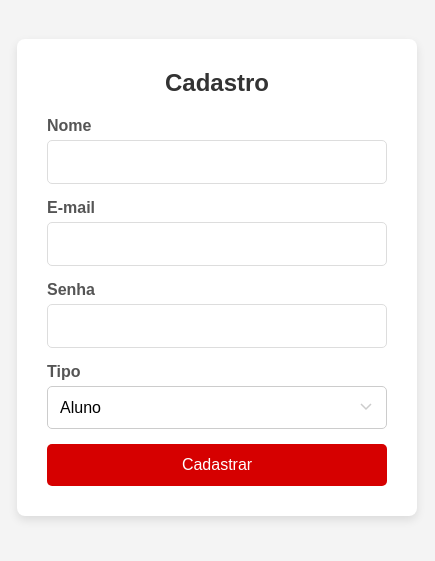
Test case: Cadastro — erros do Firebase traduzidos (AC-AUTH-05) › nunca mostra o código nem a mensagem crua do Firebase
This screenshot has width=435, height=561.
Type "Ana Souza" into the field labelled "Nome" at (217, 162), box [47,140,387,184]
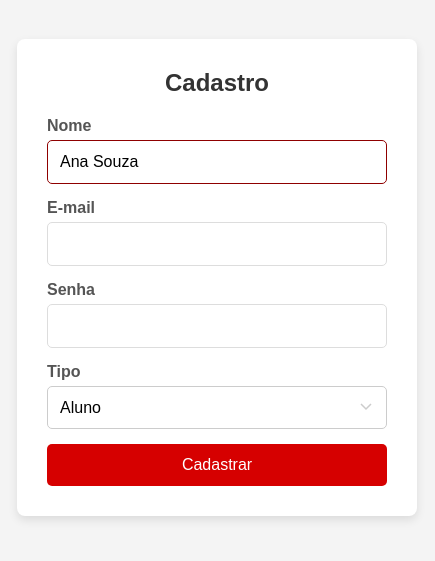
Type "ana@senai.br" into the field labelled "E-mail" at (217, 244), box [47,222,387,266]
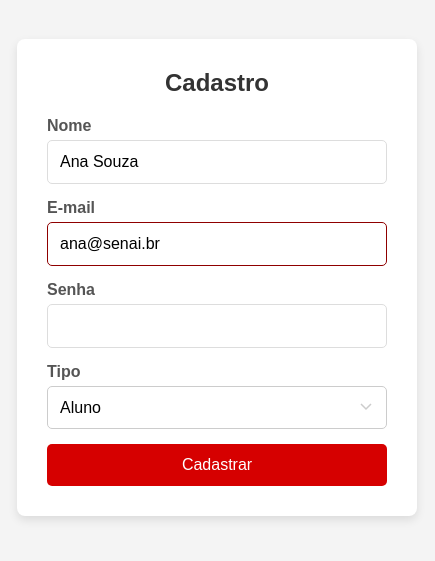
Type "senha123" into the password field labelled "Senha" at (217, 326), box [47,304,387,348]
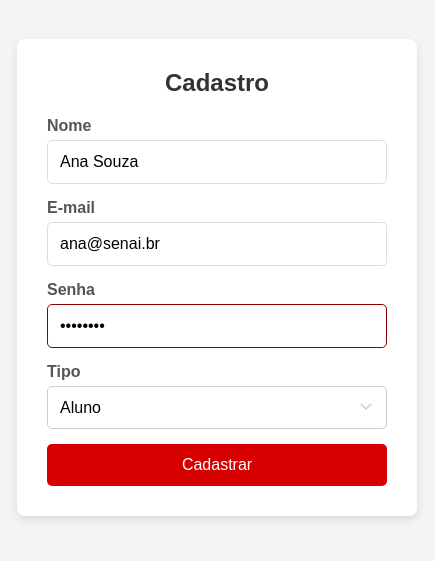
Click the button "Cadastrar" at (217, 464), box [47,444,387,486]
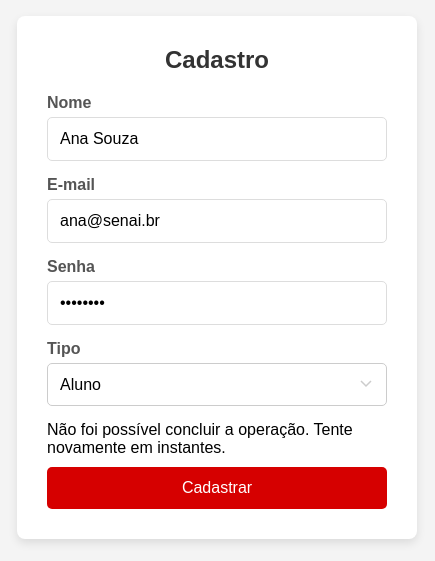
Now the text "Não foi possível concluir a operação. Tente novamente em instantes." is shown, box [47,420,387,456]
